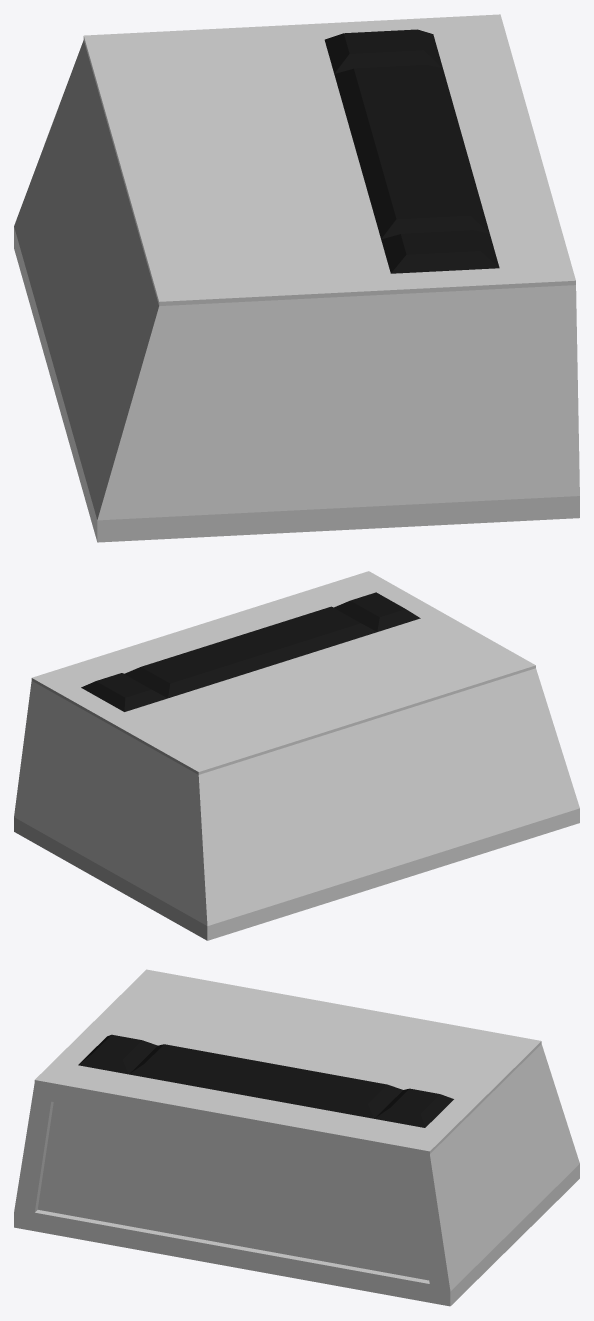
File: alarm_clock.fbx
The picture shows the model from 3 angles, top to bottom: view 1: azimuth 30°, elevation 25°; view 2: azimuth 150°, elevation 25°; view 3: azimuth 270°, elevation 25°; orthographic projection. The views are drawn at different scales.
Visible parts, largest first — view 1: Alarm_Clock; view 2: Alarm_Clock; view 3: Alarm_Clock.
Part boxes in pixels (x1,y1,x2,y2): Alarm_Clock: [14, 14, 579, 542]; Alarm_Clock: [14, 571, 579, 940]; Alarm_Clock: [14, 969, 579, 1306].
Size of the model in its own units: 0.6878 by 0.2472 by 0.7954.
